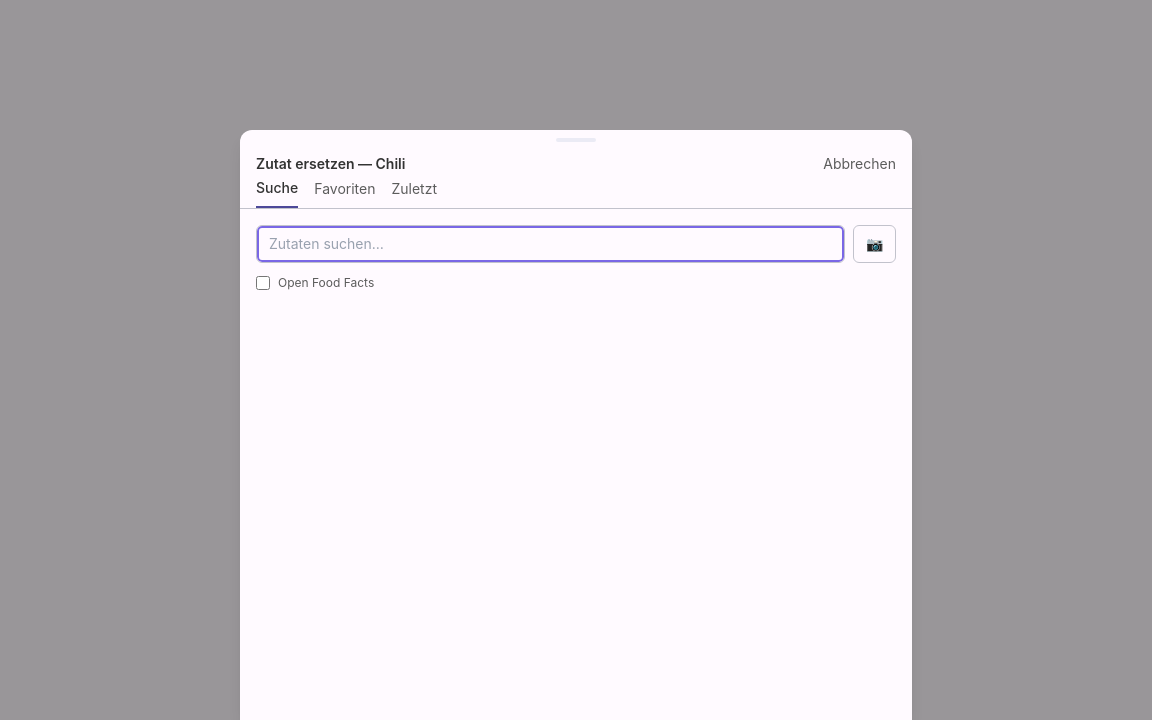
Test: LogIngredientDrawer — batch-targeted mode › replace pre-fills the replaced amount for a same-unit food
In the search field with placeholder "Zutaten suchen…": coordinates (550, 244) [256,225,845,263], type "tofu"
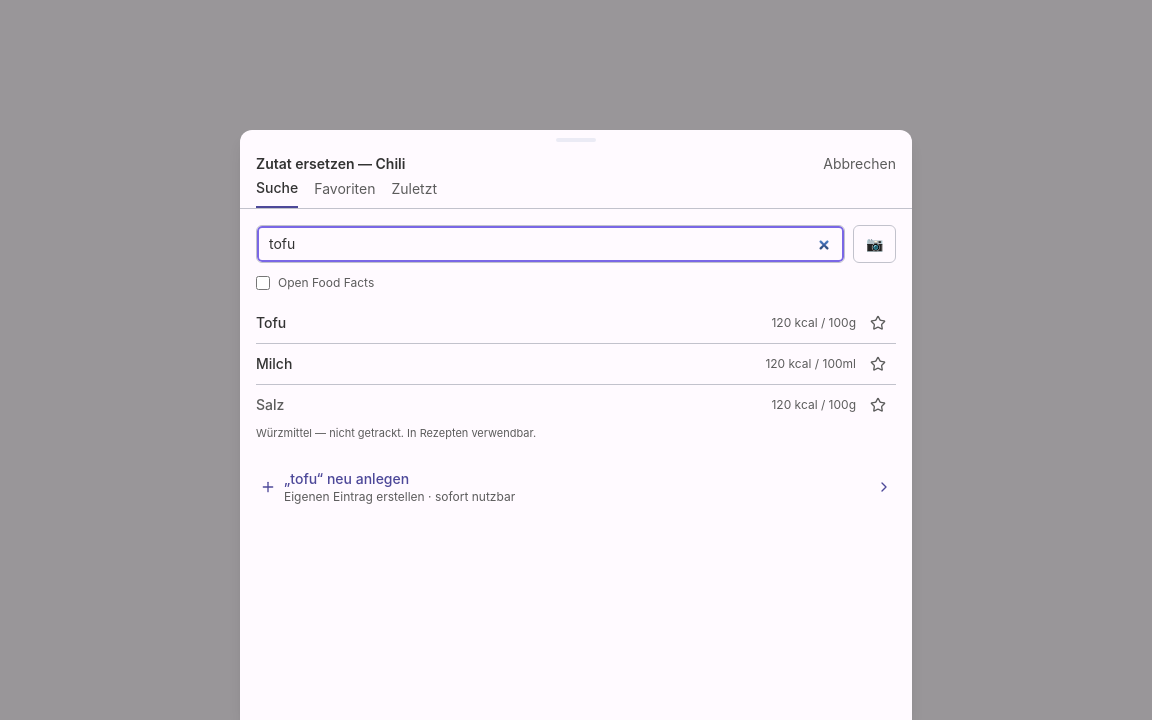
Click the button "Tofu 120 kcal / 100g": coordinates (271, 322) [256,303,856,343]
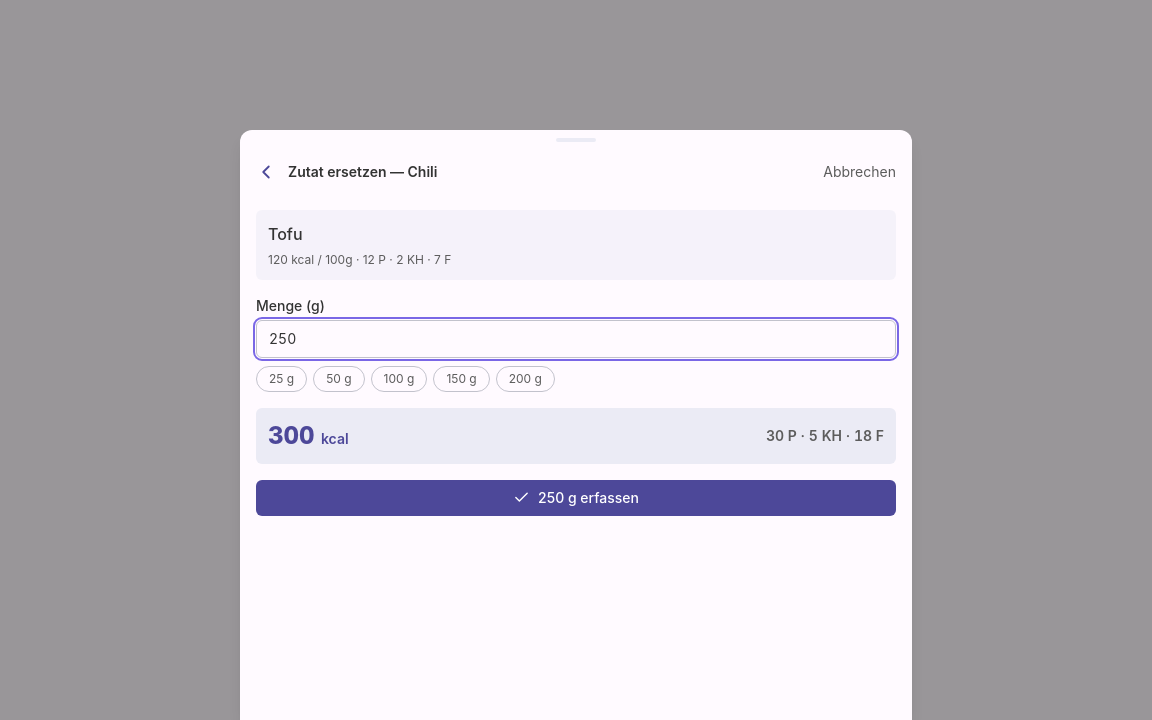
Check: the field labelled "Menge (g)" holds "250", box [256,320,896,358]
